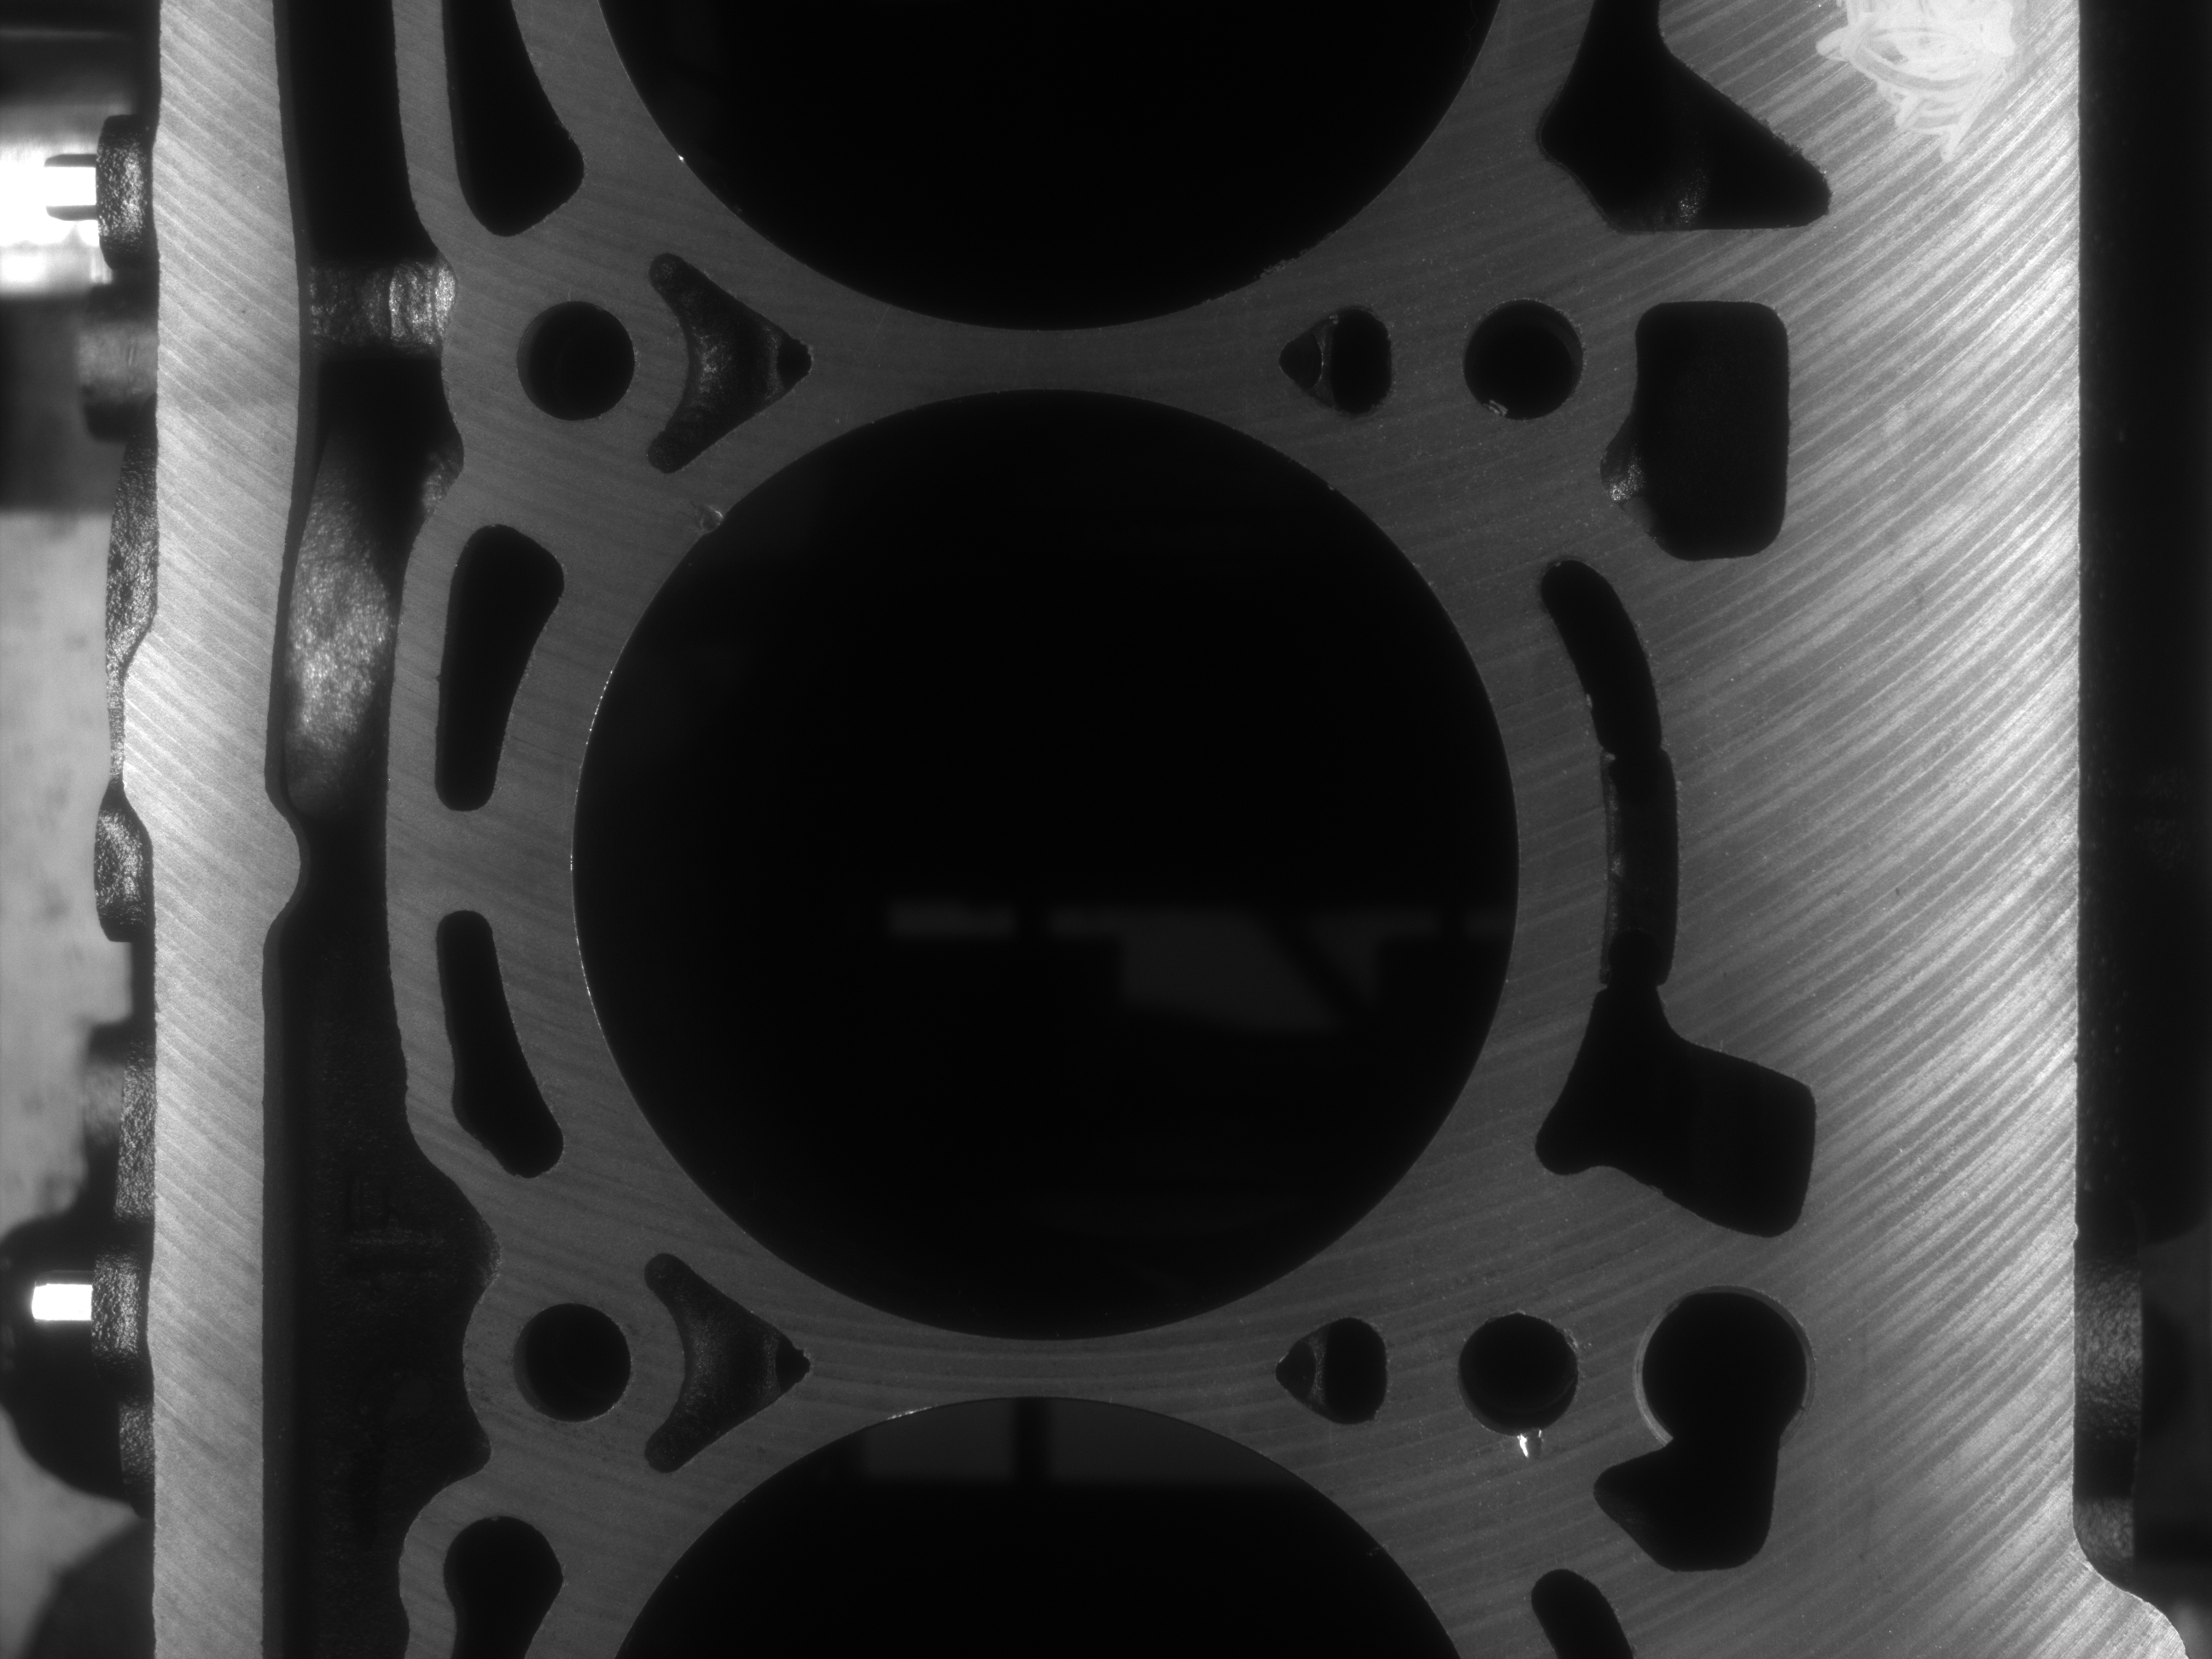dirty: (1834, 0, 2027, 173)
shrinkage: (1514, 1425, 1545, 1459), (688, 497, 719, 526)
